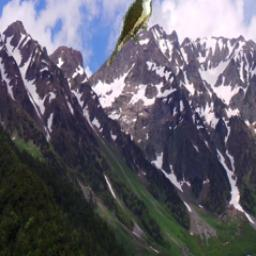Cuckoo: (107, 0, 161, 69)
